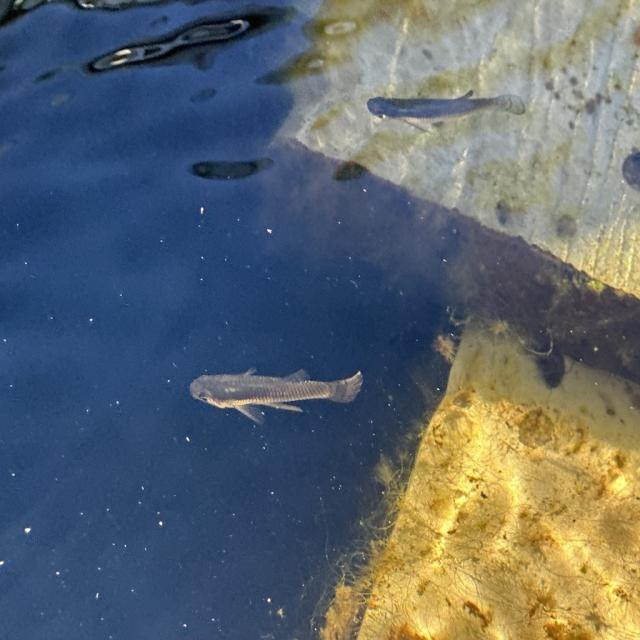Sivrisinek Baligi: (368, 74, 535, 149), (188, 364, 364, 424)
